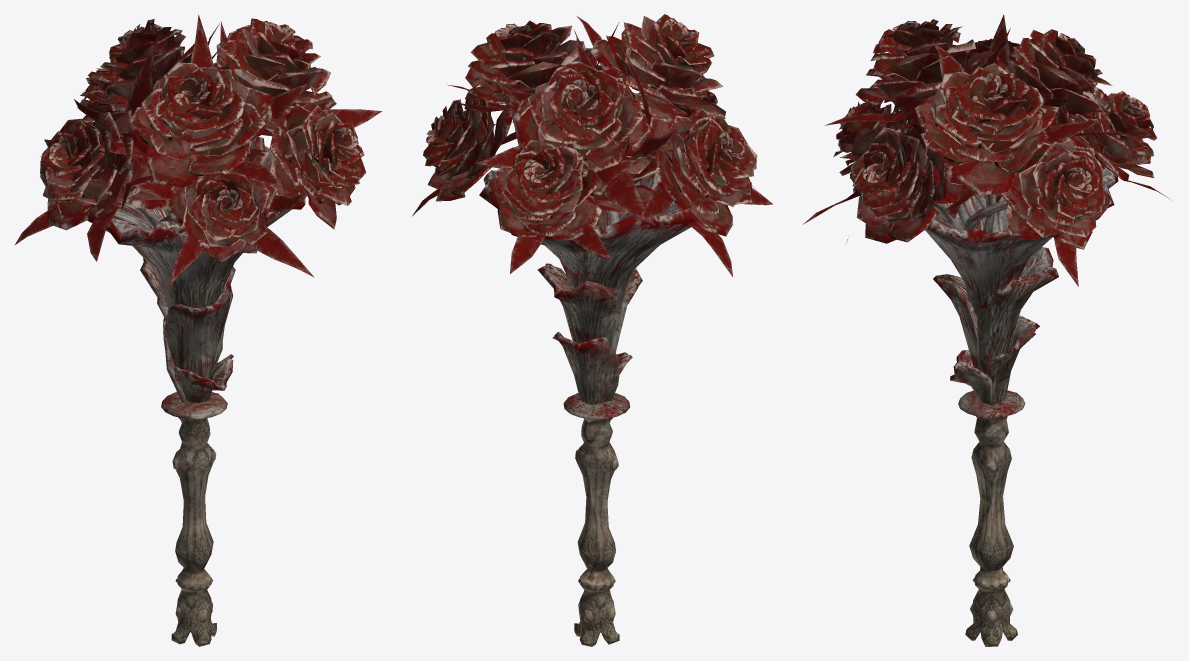
The model's file is cl_pd_vahrsboquet.glb.
3 views of the same model, side by side, from view 1: azimuth 30°, elevation 25°; view 2: azimuth 150°, elevation 25°; view 3: azimuth 270°, elevation 25° (orthographic).
Visible parts, largest first — view 1: Vahr'sBoquet; view 2: Vahr'sBoquet; view 3: Vahr'sBoquet.
Part boxes in pixels (x1=…): Vahr'sBoquet: x1=15, y1=15, x2=381, y2=646; Vahr'sBoquet: x1=412, y1=14, x2=772, y2=646; Vahr'sBoquet: x1=803, y1=14, x2=1170, y2=646.
Size of the model in its own units: 47.13 by 84.3 by 46.11.
Materials: 1 (1 with a texture image).
